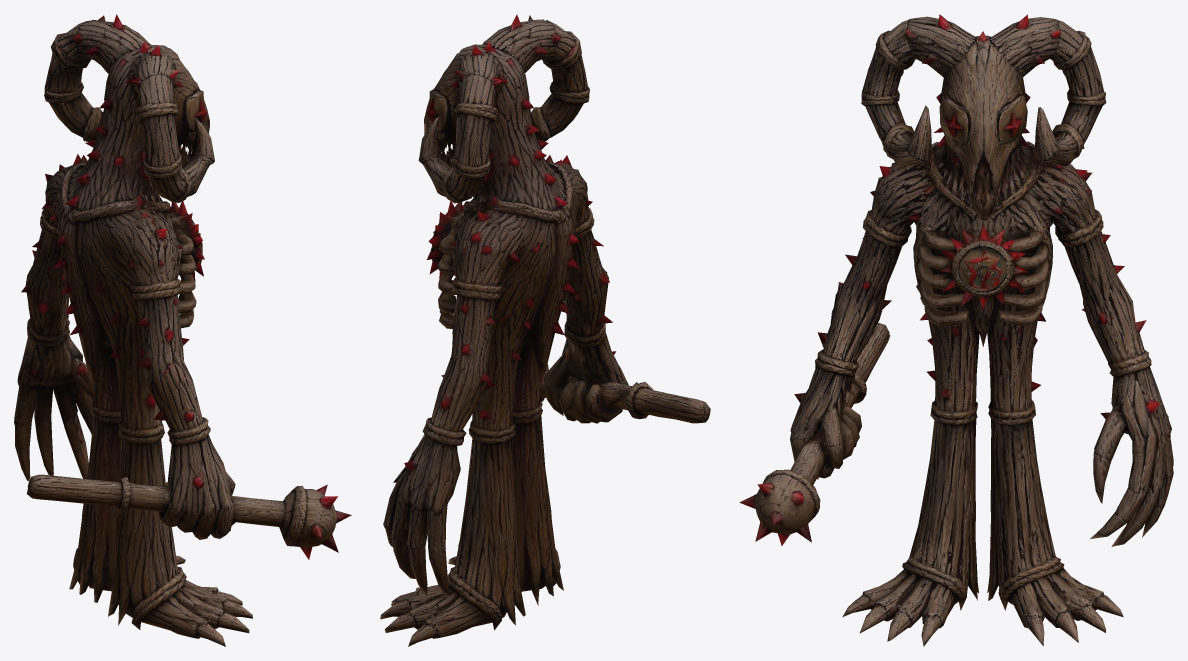
Rendered from Wicker-Wendigo.glb.
3 views of the same model, side by side, from view 1: azimuth 30°, elevation 25°; view 2: azimuth 150°, elevation 25°; view 3: azimuth 270°, elevation 25° (orthographic). The views are drawn at different scales.
Visible parts, largest first — view 1: tripo_node_eda4e3e9-c301-40de-b55a-c3e354361fd2; view 2: tripo_node_eda4e3e9-c301-40de-b55a-c3e354361fd2; view 3: tripo_node_eda4e3e9-c301-40de-b55a-c3e354361fd2.
Boxes of the visible parts, x1=… form: tripo_node_eda4e3e9-c301-40de-b55a-c3e354361fd2: x1=14, y1=14, x2=351, y2=646; tripo_node_eda4e3e9-c301-40de-b55a-c3e354361fd2: x1=380, y1=14, x2=710, y2=646; tripo_node_eda4e3e9-c301-40de-b55a-c3e354361fd2: x1=739, y1=14, x2=1173, y2=646.
Size of the model in its own units: 0.4909 by 0.9847 by 0.6513.
Materials: 1 (1 with a texture image).
